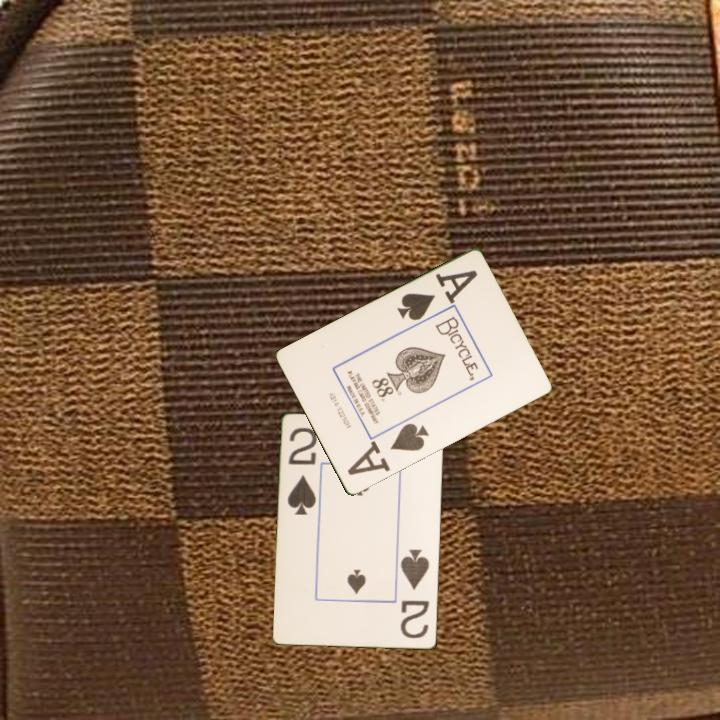2s: (284, 424, 320, 518), (397, 546, 432, 642)
As: (393, 267, 480, 324), (352, 420, 432, 473)
